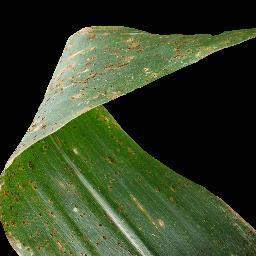Corn_Common_Rust: (88, 119, 255, 256), (0, 120, 89, 256), (41, 20, 256, 71), (29, 70, 172, 119)
